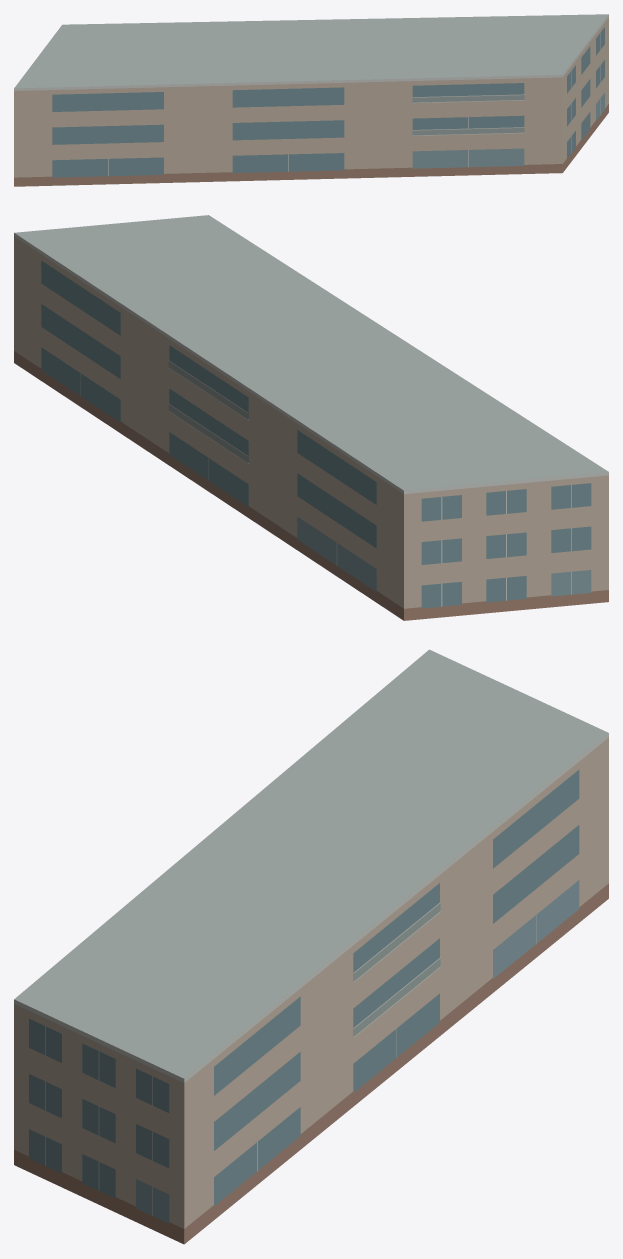
The model's file is survey-upis-32973706.glb.
3 renders of one model, top to bottom at view 1: azimuth 30°, elevation 25°; view 2: azimuth 150°, elevation 25°; view 3: azimuth 270°, elevation 25°, orthographic. The views are drawn at different scales.
Visible parts, largest first — view 1: survey-upis-32973706.tmp; view 2: survey-upis-32973706.tmp; view 3: survey-upis-32973706.tmp.
Part boxes in pixels (x1,y1,x2,y2): survey-upis-32973706.tmp: (14,14,608,186); survey-upis-32973706.tmp: (14,215,608,620); survey-upis-32973706.tmp: (14,649,608,1244).
Size of the model in its own units: 50.84 by 9.15 by 29.77.
